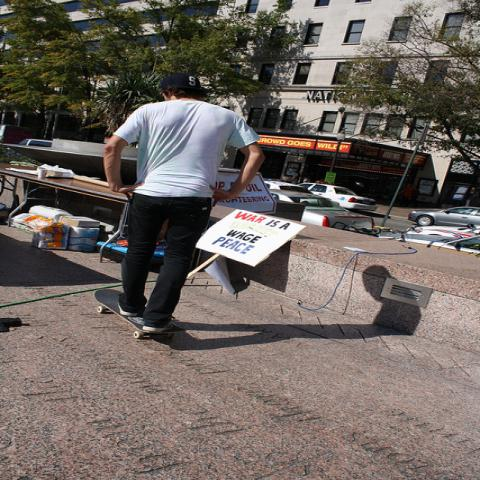car: (269, 191, 375, 228), (297, 181, 377, 211), (379, 233, 479, 255), (408, 206, 480, 227), (264, 180, 318, 205), (407, 224, 479, 238)
